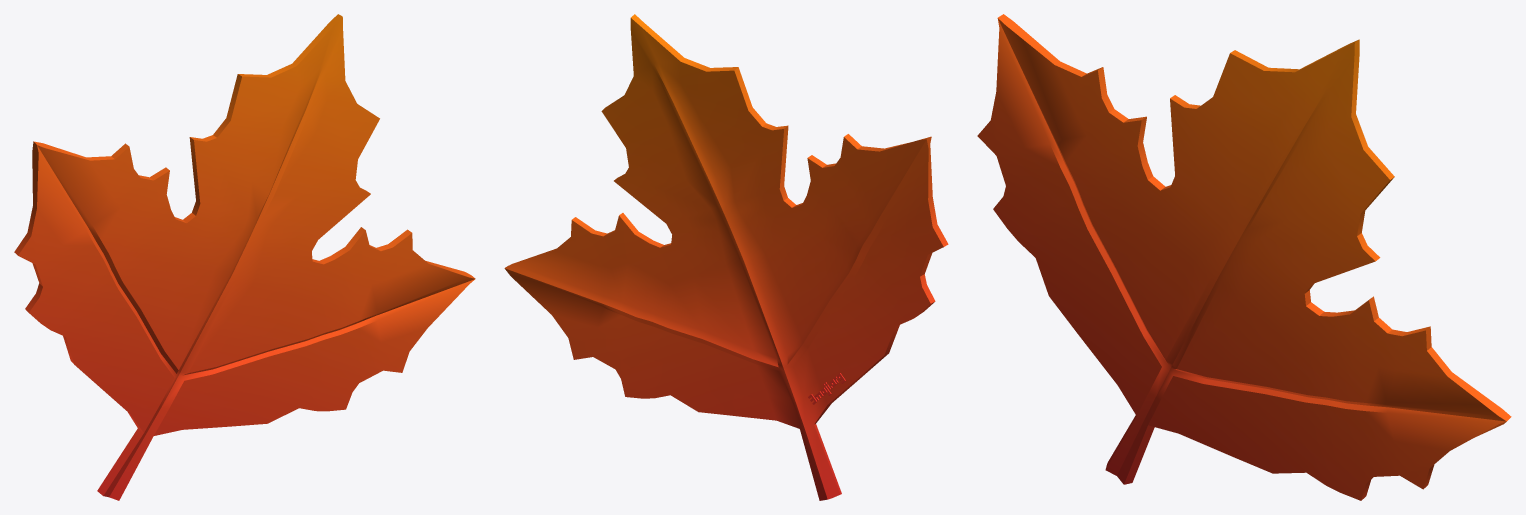
File: maple_leaf.glb
3 views of the same model, side by side, from view 1: azimuth 30°, elevation 25°; view 2: azimuth 150°, elevation 25°; view 3: azimuth 330°, elevation 25° (orthographic). The views are drawn at different scales.
Parts seen in each view (by area): view 1: Plane.180; view 2: Plane.180; view 3: Plane.180.
Boxes of the visible parts, bbox=[...] form: Plane.180: bbox=[14, 14, 475, 500]; Plane.180: bbox=[504, 14, 948, 500]; Plane.180: bbox=[977, 14, 1511, 500].
Bounding box in the file's own units: 2.39 × 2.21 × 0.2283.
Materials: 1 (1 with a texture image).
